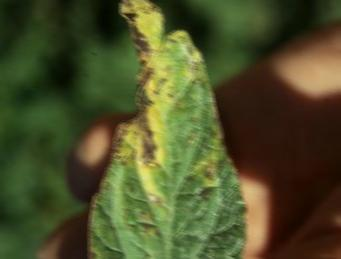Tomato leaf bacterial spot: (46, 0, 266, 259)
